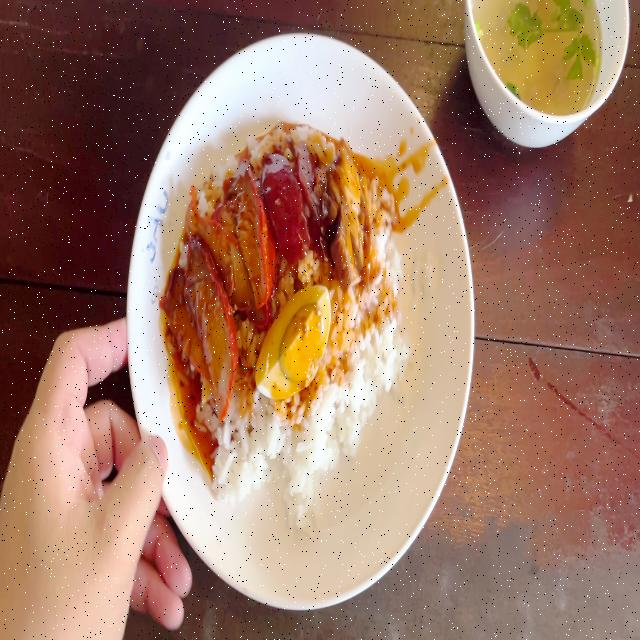boiled_egg: (266, 276, 330, 408)
chainese_sausage: (262, 134, 332, 264)
crispy_pork: (324, 140, 364, 288)
red_pork: (173, 162, 265, 426)
red_pork_and_crispy_pork: (164, 115, 408, 533)
rice: (342, 206, 412, 432), (230, 407, 350, 527)
